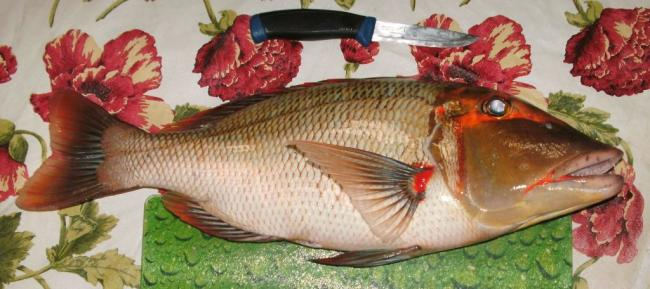fish: (15, 76, 624, 270)
